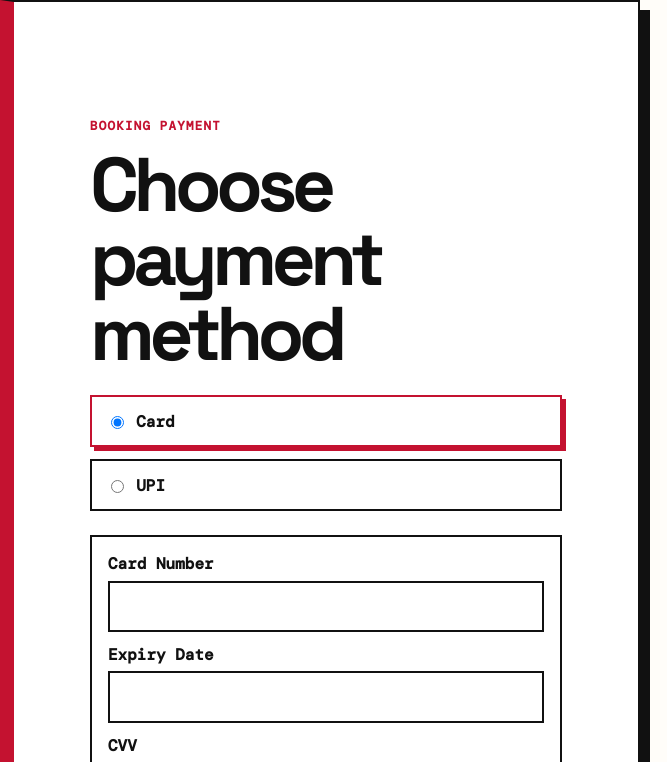
Scenario: PaymentFlow › hides card fields when UPI is selected
This screenshot has width=667, height=762.
Expected: the field labelled "Card Number" is shown, top-left (108, 581), bottom-right (544, 632)
Step 1. Click the radio button labelled "UPI" → (117, 487), box top-left (111, 480), bottom-right (124, 493)
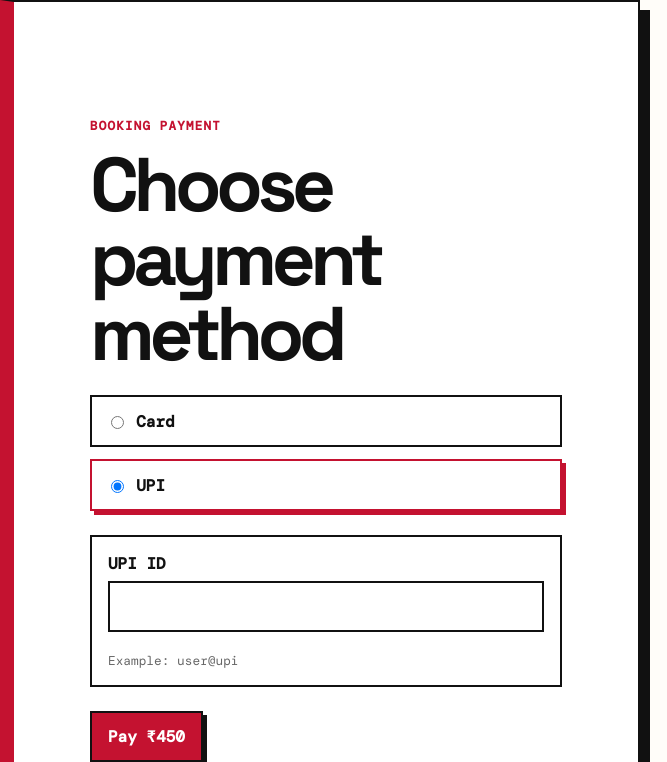
Expected: the field labelled "UPI ID" is shown, top-left (108, 581), bottom-right (544, 632)
Result: the label labelled "Card Number" is gone
Result: the text "Example: user@upi" is shown at top-left (108, 652), bottom-right (238, 669)
